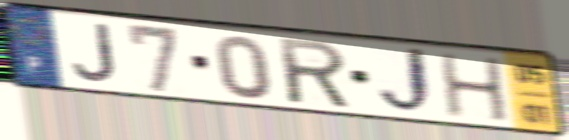0: (211, 31, 276, 102)
7: (124, 20, 184, 95)
H: (436, 51, 513, 125)
J: (374, 44, 437, 118), (69, 22, 120, 85)
R: (274, 35, 354, 111)
